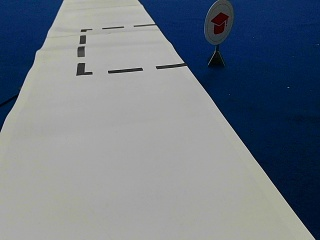school: (204, 1, 233, 44)
